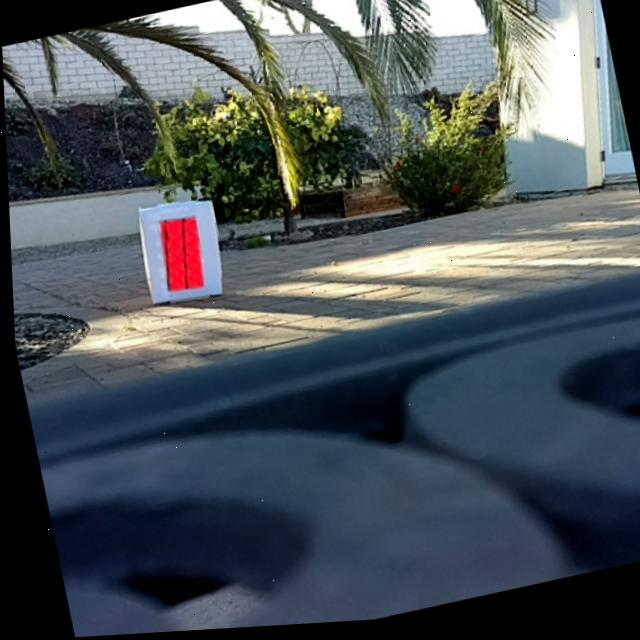led: (157, 213, 207, 301)
